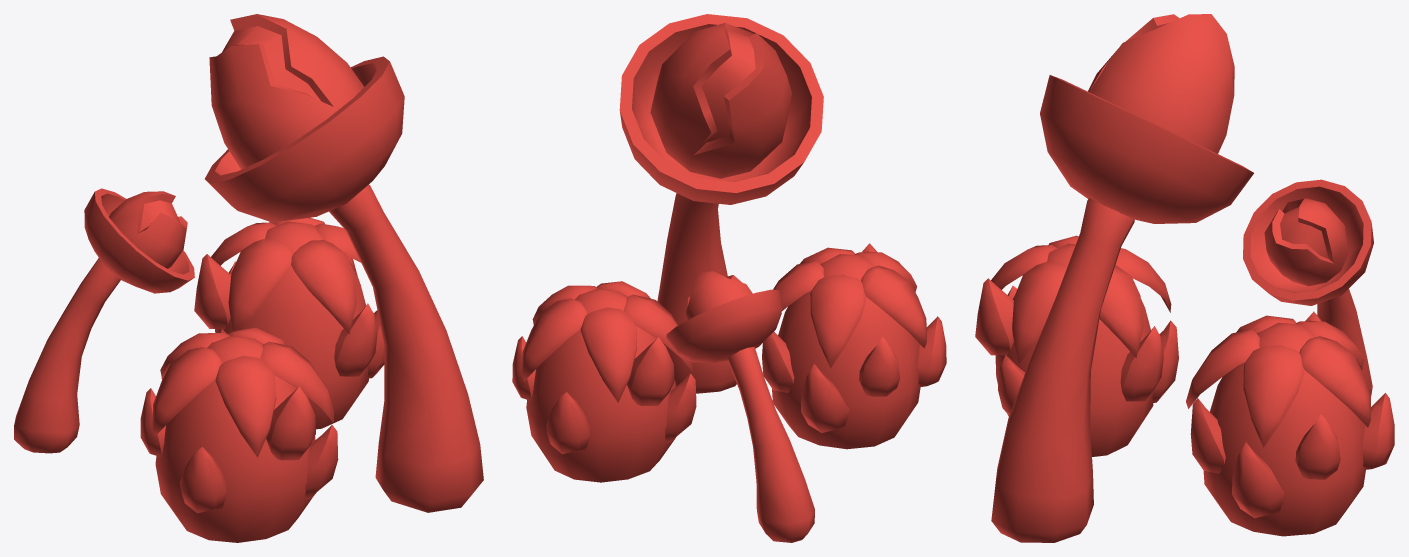
File: plant_1.fbx
3 renders of one model, left to right at view 1: azimuth 30°, elevation 25°; view 2: azimuth 150°, elevation 25°; view 3: azimuth 270°, elevation 25°, orthographic. The views are drawn at different scales.
Parts seen in each view (by area): view 1: plant_1; view 2: plant_1; view 3: plant_1.
Boxes of the visible parts, x1,y1,x2,y2 form: plant_1: [14, 14, 483, 542]; plant_1: [512, 14, 946, 542]; plant_1: [975, 14, 1394, 542].
Size of the model in its own units: 92.88 by 121 by 98.92.
